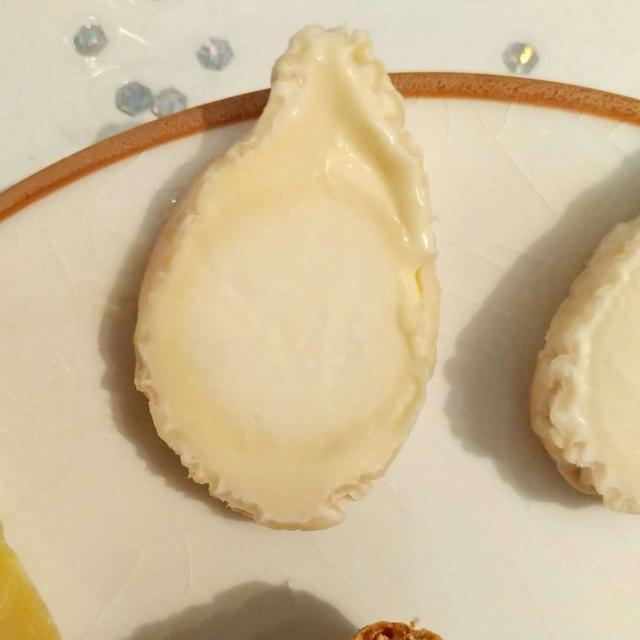cheese: (121, 10, 638, 546), (126, 37, 636, 567)
